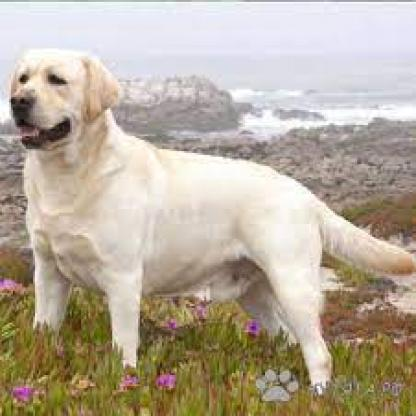Labarador Retriever: (6, 45, 412, 384)
